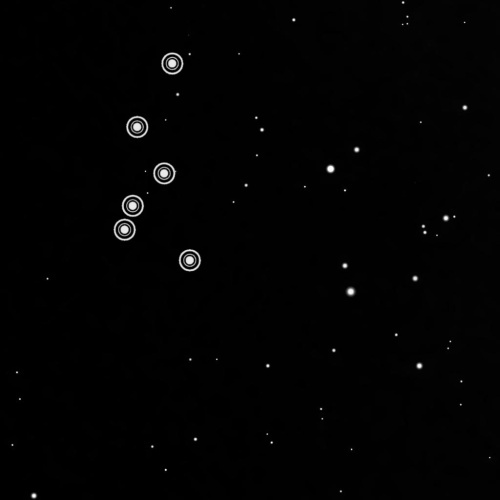cassiopeia: (104, 43, 206, 280)
